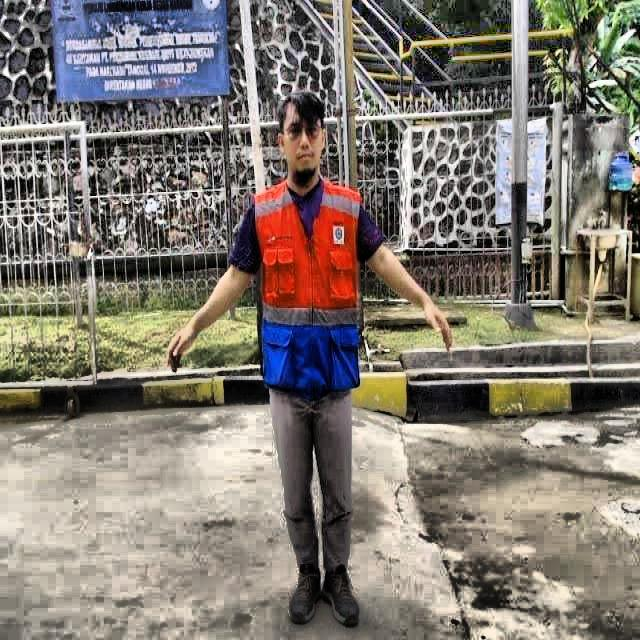safety_jacket: (251, 180, 365, 392)
